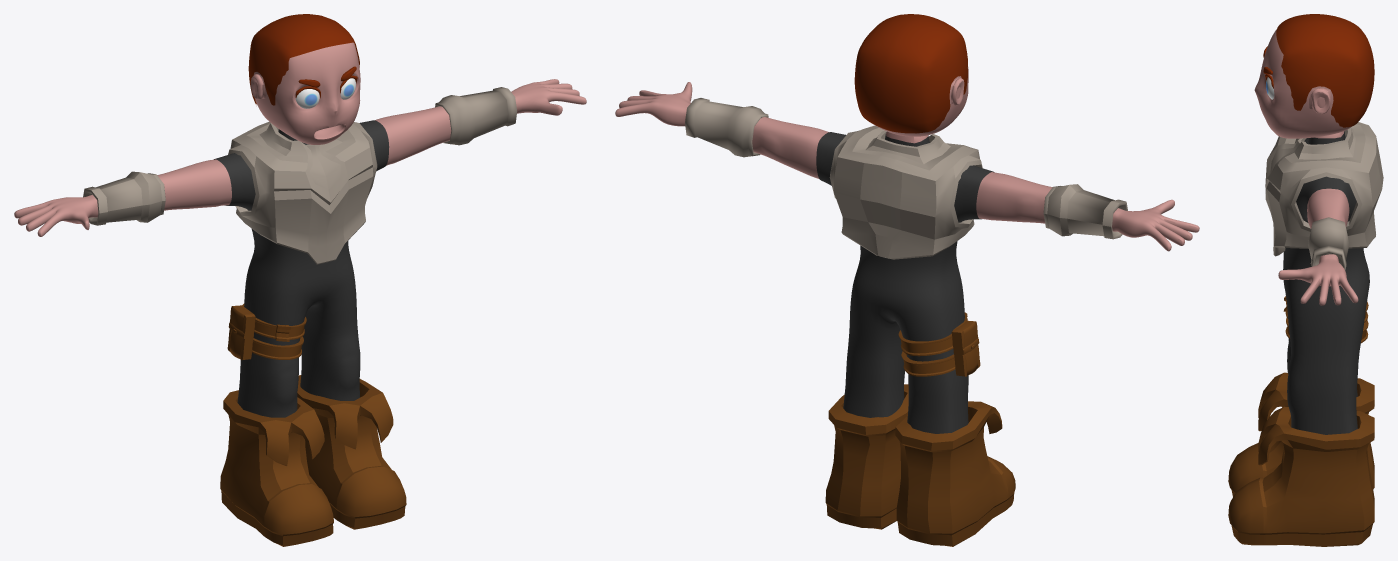
Rendered from CHARACTERex03.fbx.
3 views of the same model, side by side, from view 1: azimuth 30°, elevation 25°; view 2: azimuth 150°, elevation 25°; view 3: azimuth 270°, elevation 25° (orthographic). The views are drawn at different scales.
Visible parts, largest first — view 1: Cube.007, Cube.011, Cube, Cube.001, Cube.004, Cube.008, Cube.005, Cube.009, Cylinder, Cylinder.001; view 2: Cube.007, Cube.011, Cube, Cube.005, Cube.001, Cube.008, Cube.009, Cube.004, Cylinder.001, Cylinder; view 3: Cube.007, Cube.011, Cube, Cube.005, Cube.004, Cube.001, Cube.008.
Boxes of the visible parts, x1,y1,x2,y2 form: Cube.007: (220,375,406,546); Cube.011: (214,120,389,417); Cube: (228,121,377,264); Cube.001: (14,79,586,236); Cube.004: (250,42,360,144); Cube.008: (83,87,517,225); Cube.005: (248,14,359,105); Cube.009: (227,305,255,360); Cylinder: (242,303,306,341); Cylinder.001: (252,336,303,359); Cube.007: (825,384,1015,546); Cube.011: (816,132,994,433); Cube: (829,125,982,259); Cube.005: (854,14,967,133); Cube.001: (615,82,1199,251); Cube.008: (685,98,1127,239); Cube.009: (951,320,980,376); Cube.004: (873,67,968,136); Cylinder.001: (901,351,955,376); Cylinder: (898,312,967,356); Cube.007: (1228,372,1374,546); Cube.011: (1283,131,1369,434); Cube: (1265,122,1383,256); Cube.005: (1276,14,1374,127); Cube.004: (1254,29,1351,138); Cube.001: (1278,131,1358,305); Cube.008: (1308,217,1349,270).
Bounding box in the file's own units: 1104 × 926 × 263.
6 materials, 1 textured.
